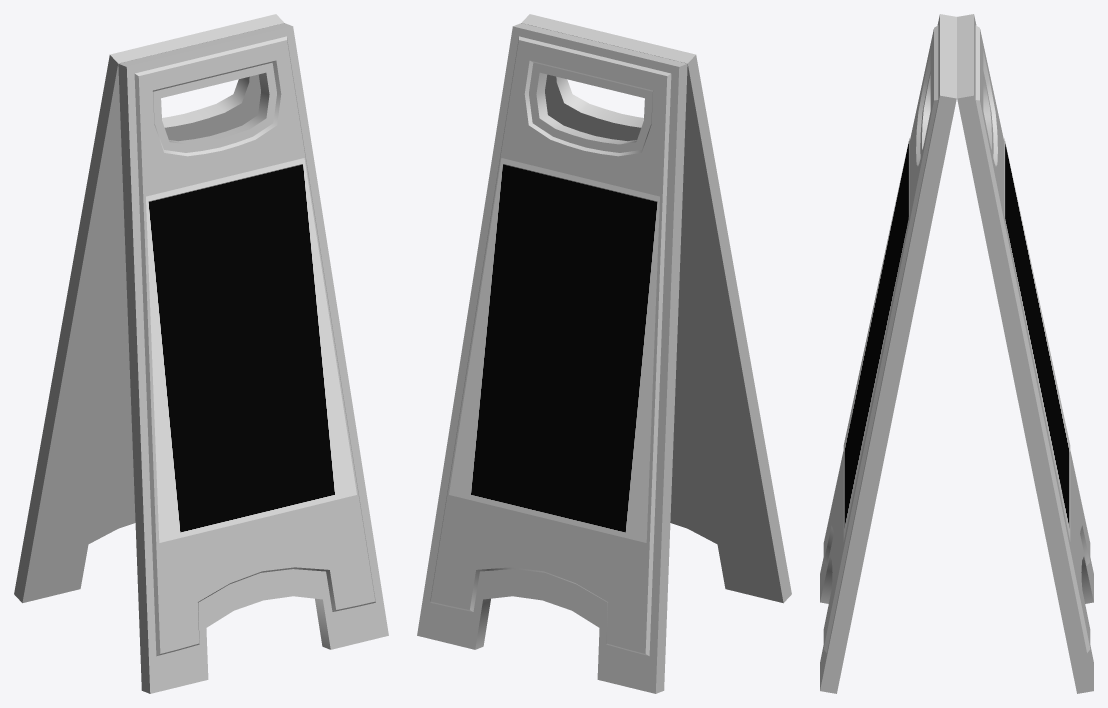
The model's file is SM_Cleaning Board.fbx.
The picture shows the model from 3 angles, left to right: view 1: azimuth 30°, elevation 25°; view 2: azimuth 150°, elevation 25°; view 3: azimuth 270°, elevation 25°; orthographic projection.
Visible parts, largest first — view 1: GEO_Cleaning_Board; view 2: GEO_Cleaning_Board; view 3: GEO_Cleaning_Board.
Part boxes in pixels (x1,y1,x2,y2): GEO_Cleaning_Board: [14, 14, 388, 693]; GEO_Cleaning_Board: [417, 14, 791, 693]; GEO_Cleaning_Board: [820, 14, 1093, 693].
Bounding box in the file's own units: 35.32 × 81.61 × 34.9.
Materials: 2 (1 with a texture image).
